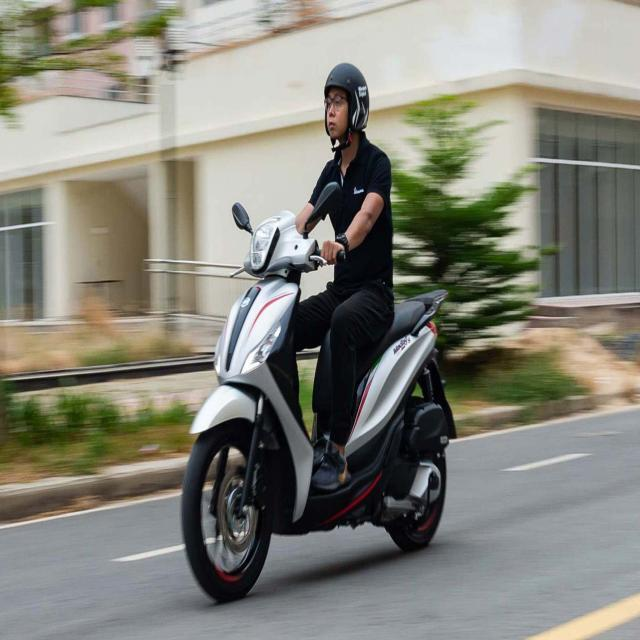motorcycle: (159, 177, 470, 603)
